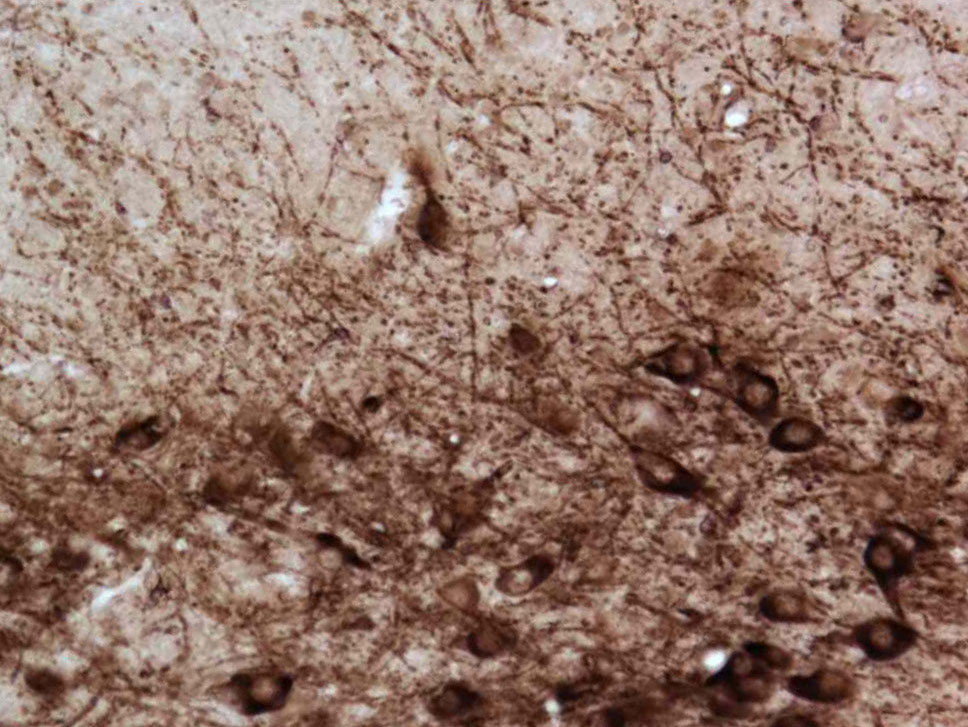neuron: (628, 445, 708, 503), (655, 345, 711, 384), (853, 534, 909, 573), (771, 415, 827, 454), (732, 376, 788, 415), (761, 588, 817, 627), (856, 621, 912, 660), (233, 669, 289, 708), (427, 680, 483, 719), (492, 560, 548, 599), (802, 665, 855, 706), (737, 673, 770, 702), (755, 639, 785, 666), (724, 649, 750, 677)
